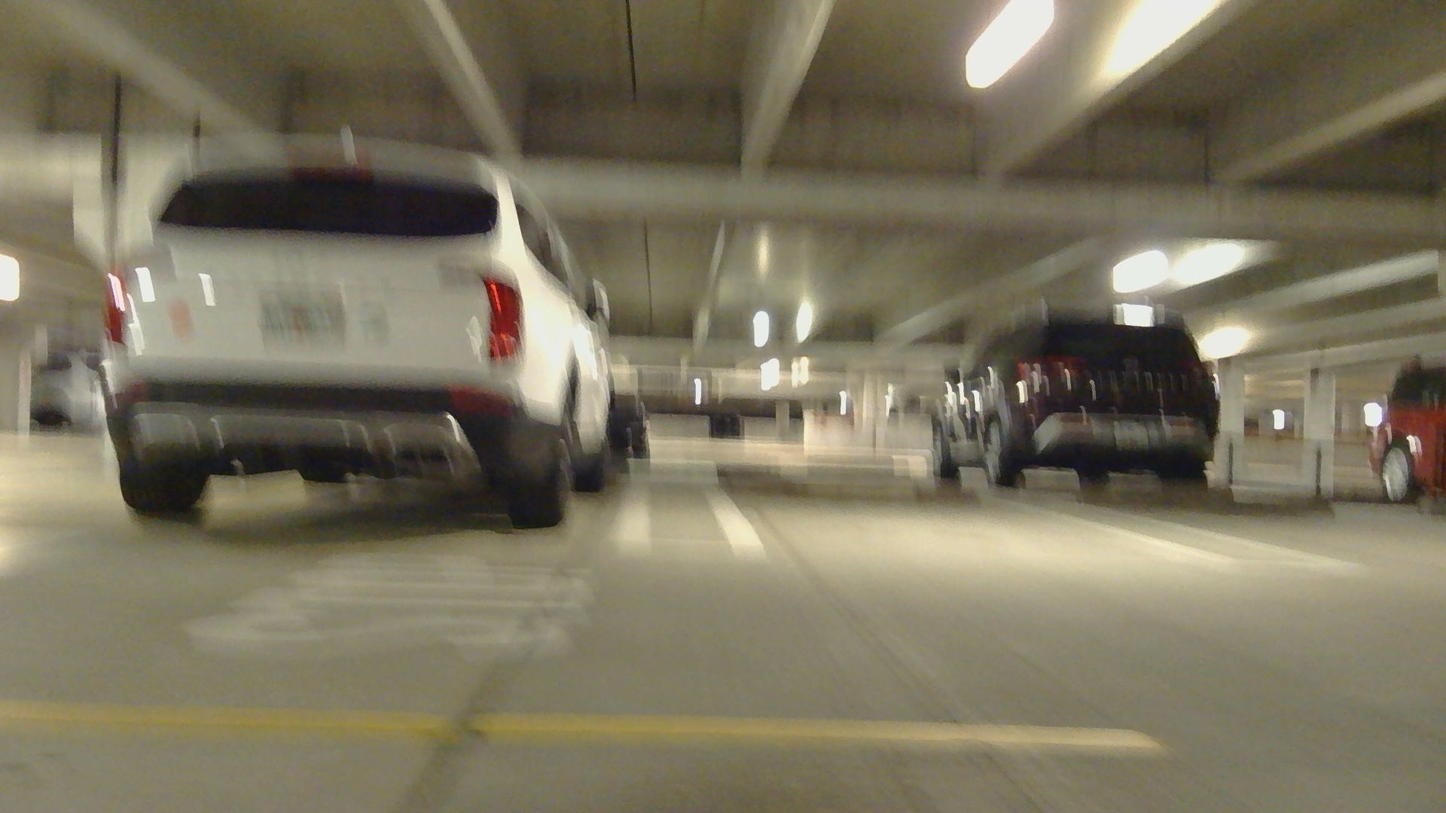empty_spot: (657, 465, 1270, 559), (1072, 453, 1446, 593), (0, 430, 124, 515)
occupied_spot: (78, 125, 631, 532)
